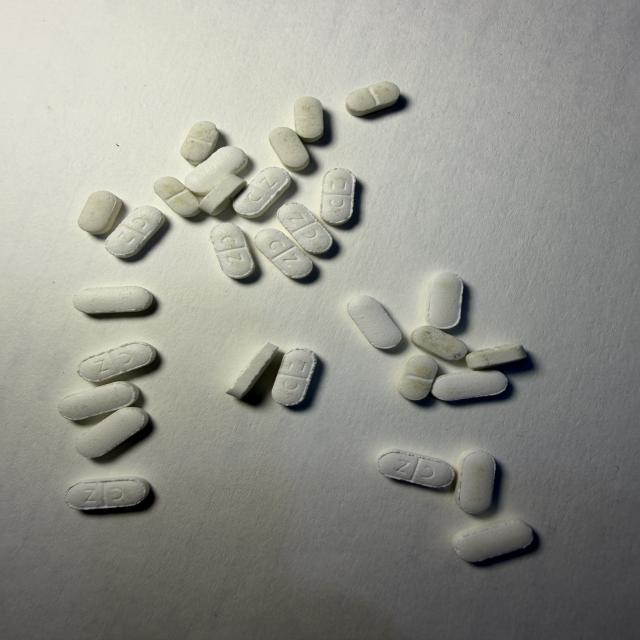pill: (76, 407, 148, 457), (453, 519, 533, 562), (78, 342, 156, 382), (59, 382, 139, 420), (185, 147, 247, 195), (106, 206, 164, 257), (233, 167, 290, 218), (255, 229, 313, 279), (66, 476, 149, 510), (378, 450, 454, 487), (348, 296, 401, 349), (227, 343, 278, 398), (278, 203, 332, 254), (272, 348, 317, 406), (210, 223, 255, 279), (456, 451, 495, 514), (431, 370, 507, 401), (73, 286, 153, 313), (427, 272, 463, 329), (320, 168, 355, 225), (411, 326, 467, 360), (78, 191, 121, 234), (200, 175, 246, 215), (346, 82, 399, 116), (154, 177, 199, 217), (269, 127, 309, 171), (398, 355, 437, 400), (181, 121, 218, 164), (466, 344, 527, 369), (294, 97, 323, 142)
